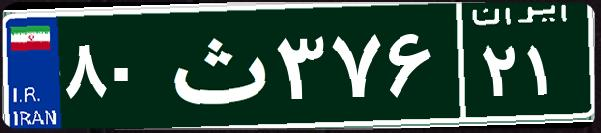0: (110, 28, 158, 105)
1: (525, 38, 570, 115)
2: (475, 38, 525, 113)
3: (273, 28, 330, 110)
6: (385, 28, 445, 110)
7: (330, 28, 385, 110)
8: (57, 26, 110, 107)
ث: (158, 15, 273, 115)
